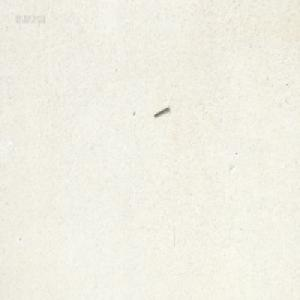Bolt: (153, 104, 169, 116)
